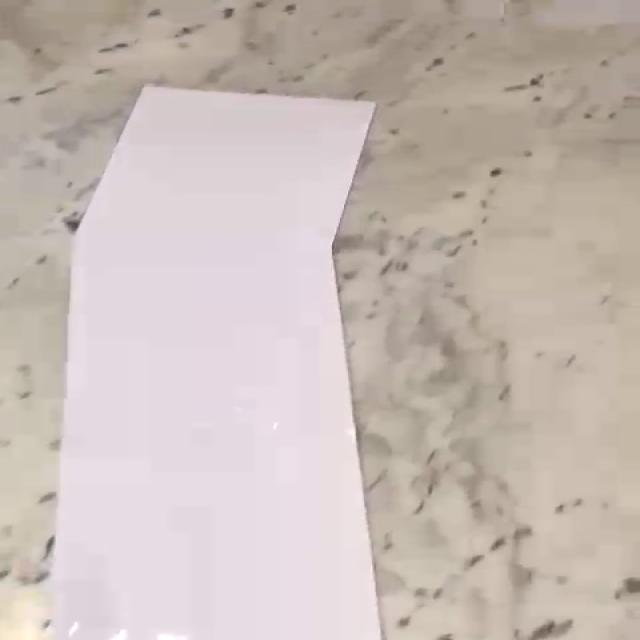road: (51, 85, 385, 640)
